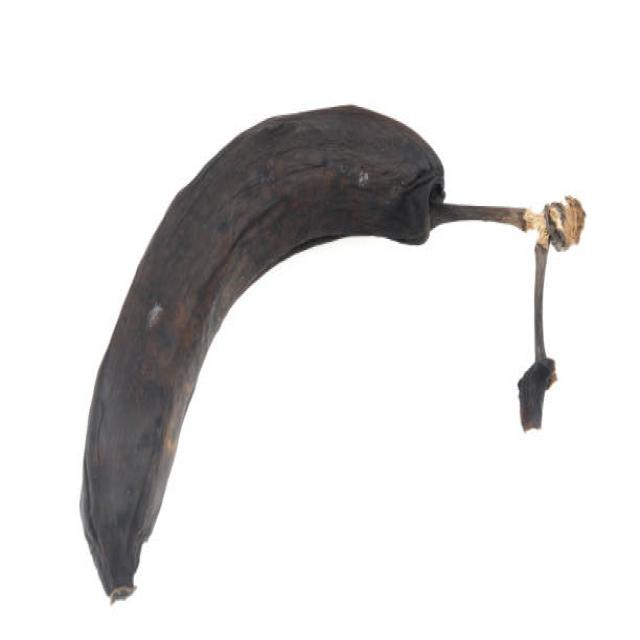Rotten: (79, 100, 530, 607)
